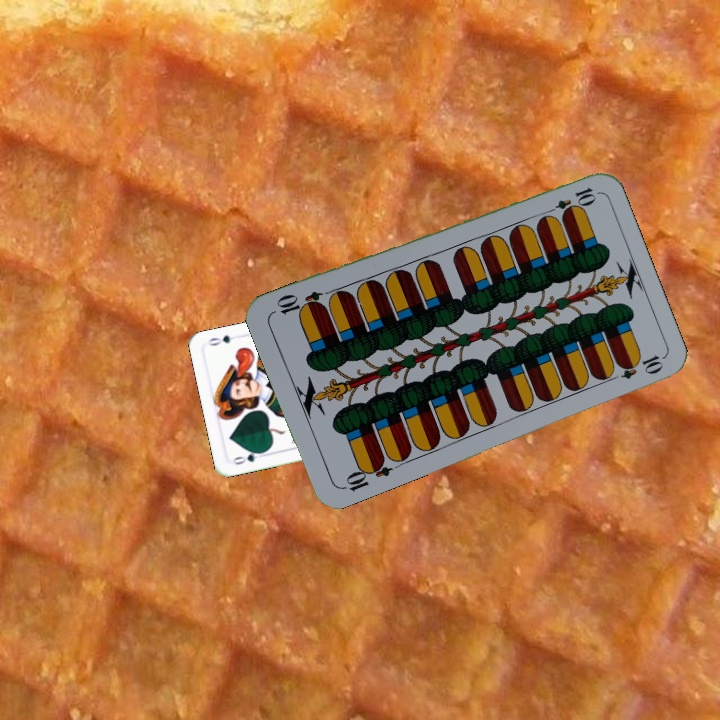E10: (338, 454, 394, 494), (541, 183, 598, 219)
GO: (228, 447, 269, 467)
